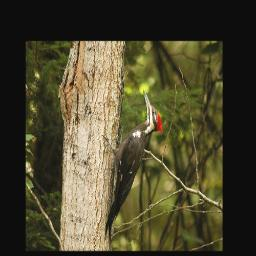Woodpecker: (99, 89, 164, 241)
